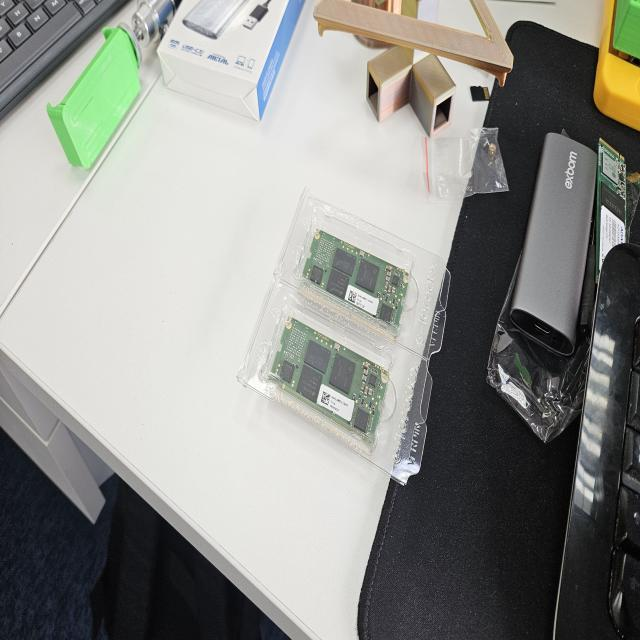som: (265, 312, 386, 453), (298, 213, 415, 334)
